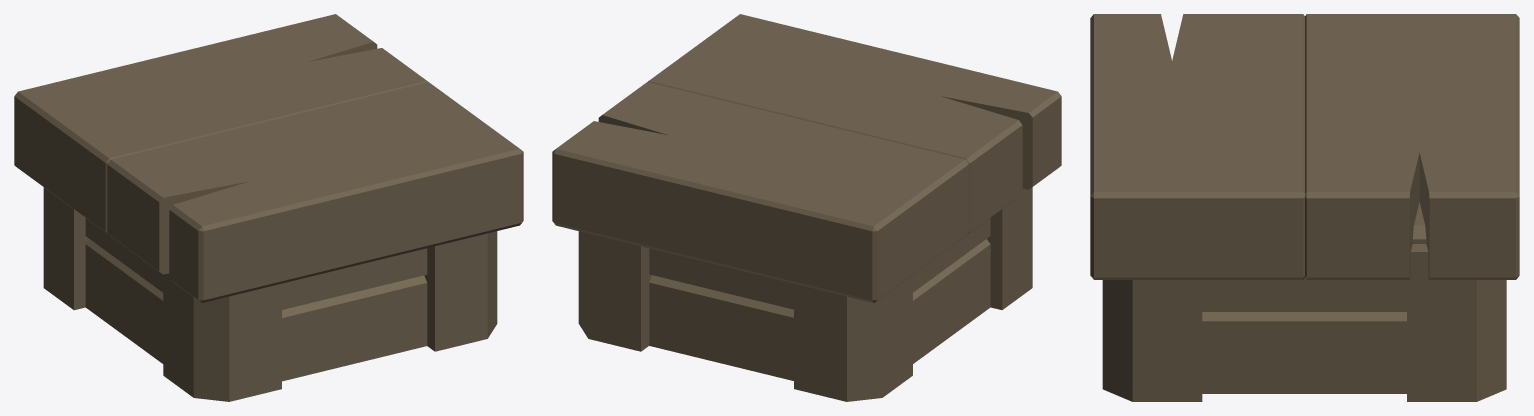
Rendered from SM_BarrierTower.fbx.
3 renders of one model, left to right at view 1: azimuth 30°, elevation 25°; view 2: azimuth 150°, elevation 25°; view 3: azimuth 270°, elevation 25°, orthographic. The views are drawn at different scales.
Visible parts, largest first — view 1: pCube80; view 2: pCube80; view 3: pCube80.
Part boxes in pixels (x1,y1,x2,y2): pCube80: (14,14,523,401); pCube80: (552,14,1061,401); pCube80: (1090,14,1519,401).
Bounding box in the file's own units: 100 × 54.68 × 99.76.
